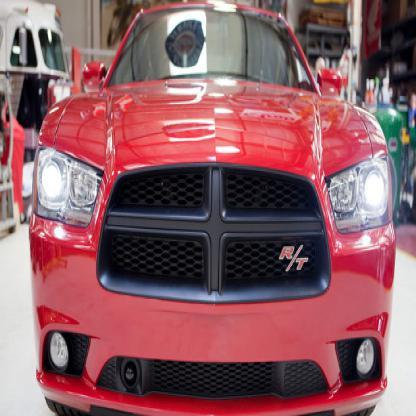Vehicle: (29, 1, 398, 415)
